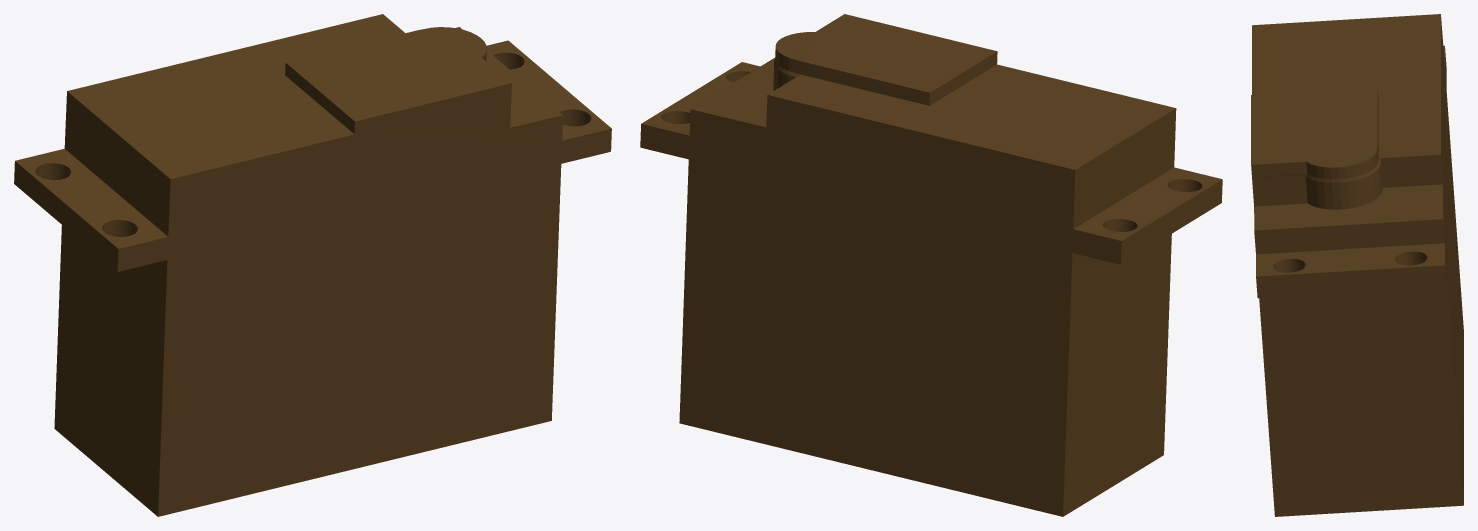
Rendered from right_shoulder_x_link_visual_1.obj.
3 views of the same model, side by side, from view 1: azimuth 30°, elevation 25°; view 2: azimuth 150°, elevation 25°; view 3: azimuth 270°, elevation 25° (orthographic). The views are drawn at different scales.
Parts seen in each view (by area): view 1: i01.rightArm.shoulder.full.002_visual.001; view 2: i01.rightArm.shoulder.full.002_visual.001; view 3: i01.rightArm.shoulder.full.002_visual.001.
Boxes of the visible parts, <box> form: i01.rightArm.shoulder.full.002_visual.001: <box>14,14,611,516</box>; i01.rightArm.shoulder.full.002_visual.001: <box>640,14,1222,516</box>; i01.rightArm.shoulder.full.002_visual.001: <box>1251,14,1463,516</box>.
Bounding box in the file's own units: 0.7755 × 0.5533 × 0.3176.
